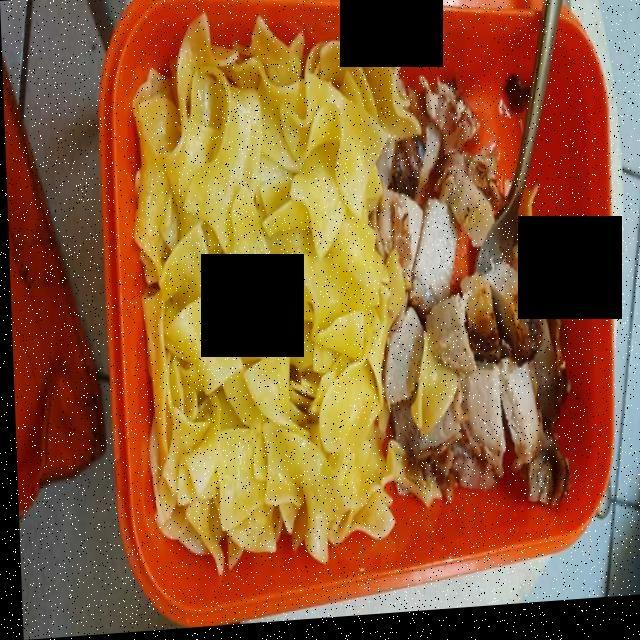bacon: (379, 73, 572, 518)
pasta: (126, 24, 414, 571)
